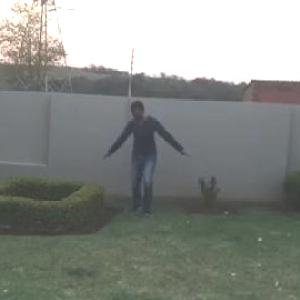land: (96, 92, 198, 232)
